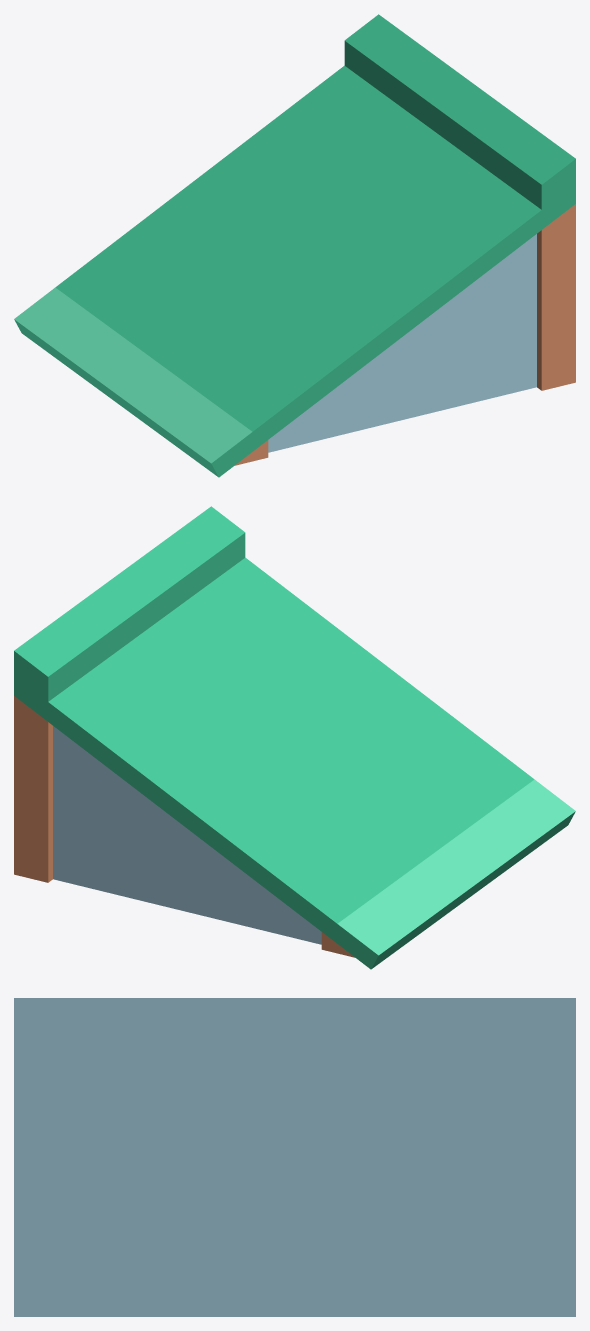
File: roof.fbx
3 views of the same model, one above another, from view 1: azimuth 30°, elevation 25°; view 2: azimuth 150°, elevation 25°; view 3: azimuth 270°, elevation 25° (orthographic). The views are drawn at different scales.
Visible parts, largest first — view 1: roof; view 2: roof; view 3: roof.
Part boxes in pixels (left/top/right/bottom): roof: left=14, top=14, right=575, bottom=477; roof: left=14, top=506, right=575, bottom=969; roof: left=14, top=998, right=575, bottom=1316.
Size of the model in its own units: 10.67 by 6.48 by 10.
